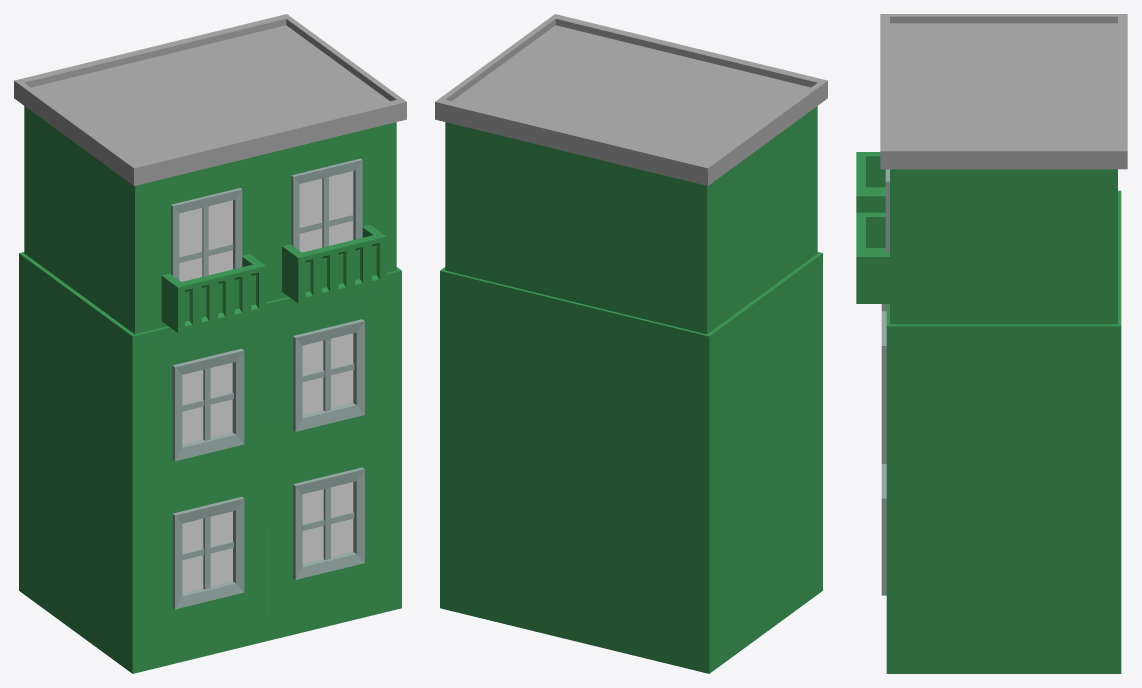
The model's file is buildingGreen.fbx.
3 views of the same model, side by side, from view 1: azimuth 30°, elevation 25°; view 2: azimuth 150°, elevation 25°; view 3: azimuth 270°, elevation 25° (orthographic). The views are drawn at different scales.
Visible parts, largest first — view 1: Cube; view 2: Cube; view 3: Cube.
Part boxes in pixels (box(x1,y1,x2,y2)): Cube: box(14, 14, 406, 673); Cube: box(435, 14, 827, 673); Cube: box(856, 14, 1127, 673).
Bounding box in the file's own units: 417 × 742 × 349.
